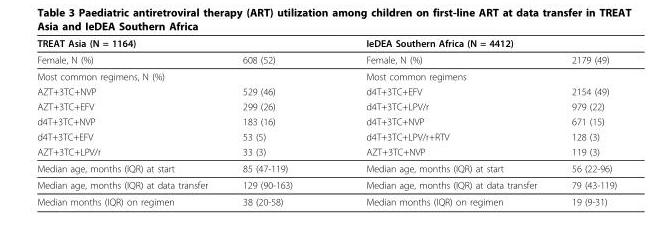table: (36, 37, 616, 206)
table column: (328, 37, 553, 206), (36, 37, 224, 206), (224, 37, 328, 206), (553, 37, 616, 206)
table column header: (36, 37, 616, 67)
table row: (36, 159, 616, 176), (36, 176, 616, 193), (36, 51, 616, 67), (36, 67, 616, 83), (36, 143, 616, 159), (36, 83, 616, 98), (36, 98, 616, 113), (36, 113, 616, 128), (36, 128, 616, 143), (36, 37, 616, 51), (36, 193, 616, 206)
table spanning cell: (36, 37, 328, 51), (328, 37, 616, 51)
